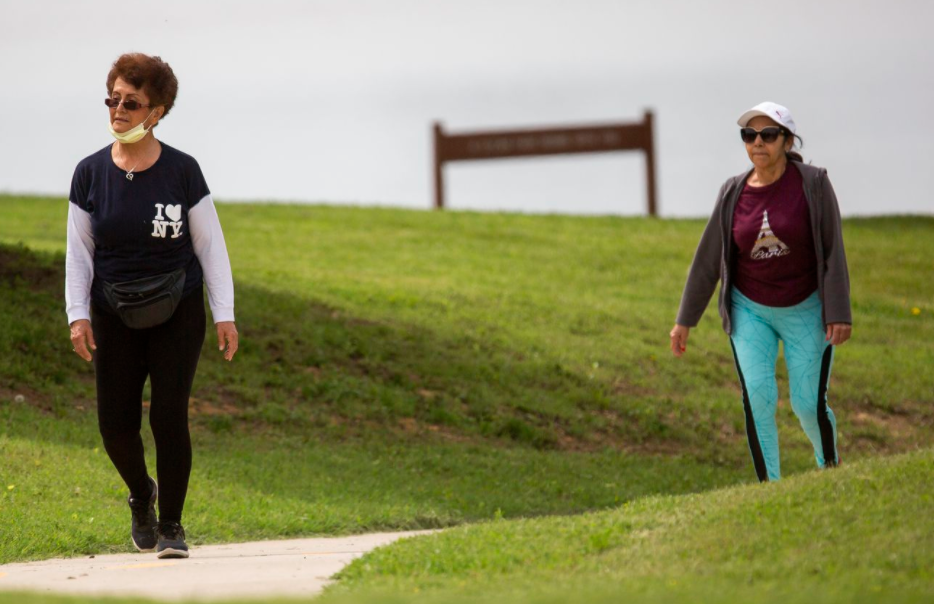Good: (61, 52, 855, 456)
